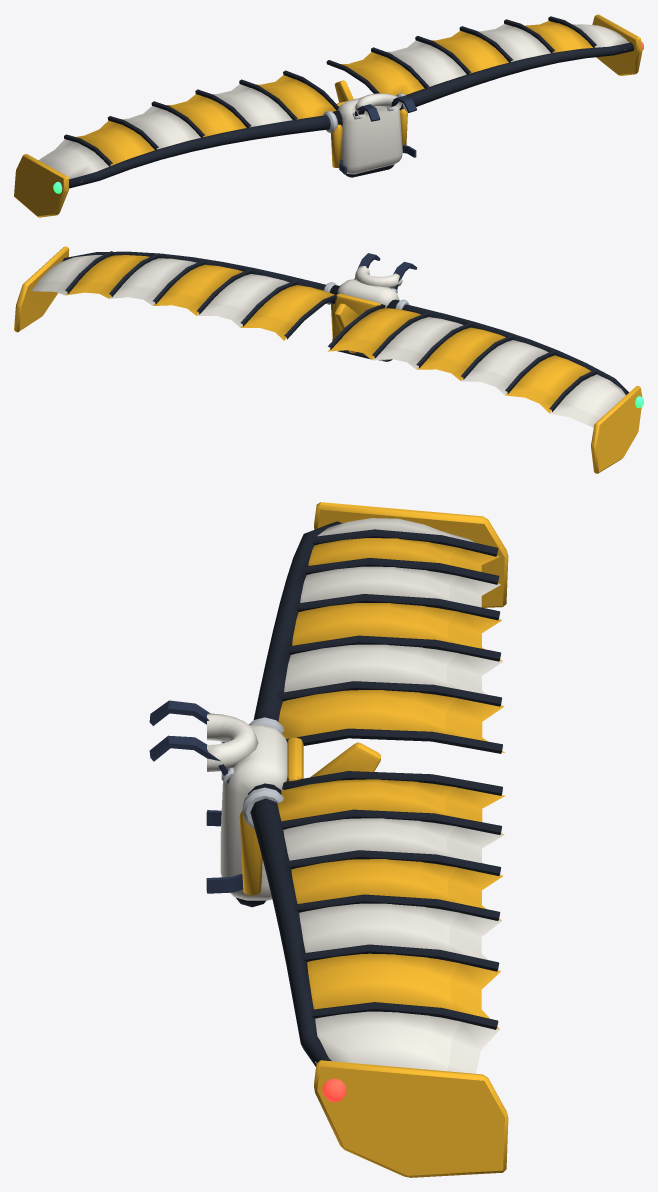
The model's file is flight-wing-cruiser.glb.
3 views of the same model, one above another, from view 1: azimuth 30°, elevation 25°; view 2: azimuth 150°, elevation 25°; view 3: azimuth 270°, elevation 25° (orthographic). The views are drawn at different scales.
Parts seen in each view (by area): view 1: Cloud cruiser Reef gold, Cloud cruiser Carbon frame, Cloud cruiser Cloud white, Cloud cruiser Harness webbing; view 2: Cloud cruiser Reef gold, Cloud cruiser Carbon frame, Cloud cruiser Cloud white, Cloud cruiser Harness webbing; view 3: Cloud cruiser Reef gold, Cloud cruiser Carbon frame, Cloud cruiser Cloud white, Cloud cruiser Harness webbing, Cloud cruiser Buckle alloy.
Part boxes in pixels (<box>): Cloud cruiser Reef gold: <box>14,14,642,217</box>; Cloud cruiser Carbon frame: <box>64,16,634,188</box>; Cloud cruiser Cloud white: <box>337,93,402,174</box>; Cloud cruiser Harness webbing: <box>339,95,417,174</box>; Cloud cruiser Reef gold: <box>14,246,642,473</box>; Cloud cruiser Carbon frame: <box>62,251,628,411</box>; Cloud cruiser Cloud white: <box>337,266,402,360</box>; Cloud cruiser Harness webbing: <box>354,253,417,289</box>; Cloud cruiser Reef gold: <box>239,502,508,1177</box>; Cloud cruiser Carbon frame: <box>236,521,502,1066</box>; Cloud cruiser Cloud white: <box>207,713,287,900</box>; Cloud cruiser Harness webbing: <box>149,700,243,893</box>; Cloud cruiser Buckle alloy: <box>221,717,284,829</box>.
Bounding box in the file's own units: 5.42 × 0.7542 × 1.43.
